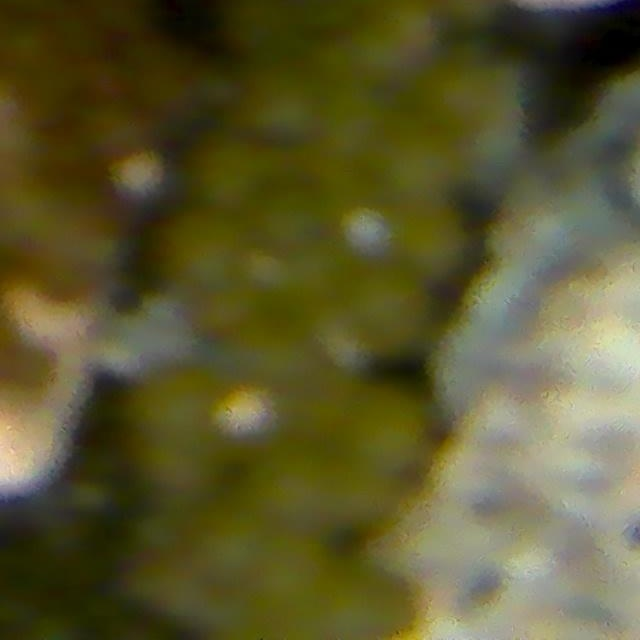SeaGrape: (342, 386, 437, 488), (362, 122, 455, 208), (342, 0, 439, 80), (151, 215, 241, 301), (176, 493, 260, 585), (301, 460, 401, 536), (230, 68, 321, 148), (150, 393, 222, 488), (248, 522, 327, 608), (193, 136, 274, 217), (350, 279, 441, 350), (254, 181, 341, 249), (389, 197, 460, 278), (341, 569, 423, 639), (246, 456, 331, 521), (183, 283, 245, 350), (0, 339, 57, 398)
